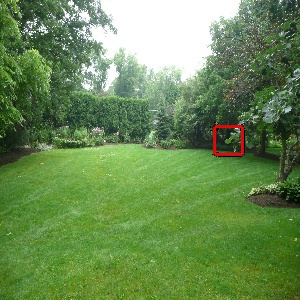square: (211, 122, 247, 159)
